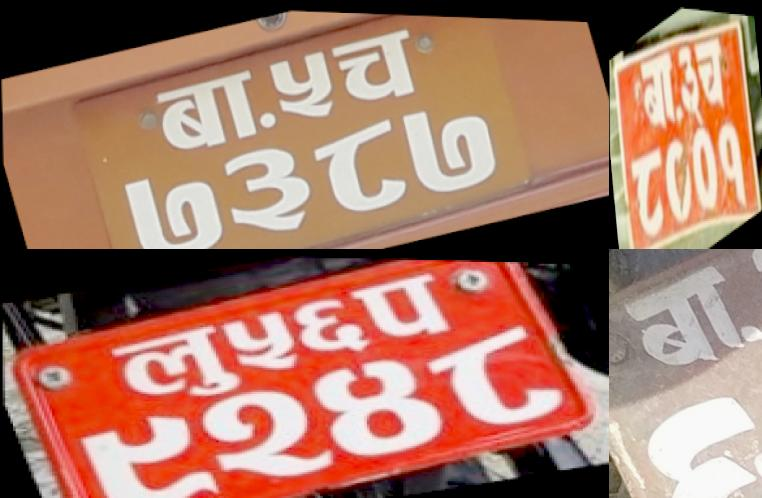0: (151, 64, 267, 158), (629, 135, 667, 249)
2: (192, 376, 343, 495)
4: (292, 346, 460, 468), (716, 105, 749, 222)
5: (221, 306, 306, 376)
6: (623, 359, 762, 498), (285, 287, 385, 364), (265, 43, 344, 125)
7: (397, 86, 502, 197), (120, 159, 227, 249), (660, 124, 694, 234), (689, 112, 720, 224)
8: (421, 313, 588, 433)
9: (69, 401, 230, 498), (328, 22, 425, 108)
ba: (609, 253, 755, 391), (212, 135, 320, 244), (638, 32, 678, 150)
cha: (675, 33, 702, 132)
lu: (102, 319, 244, 409), (693, 18, 727, 123)
pa: (308, 111, 415, 223), (352, 266, 466, 348)
